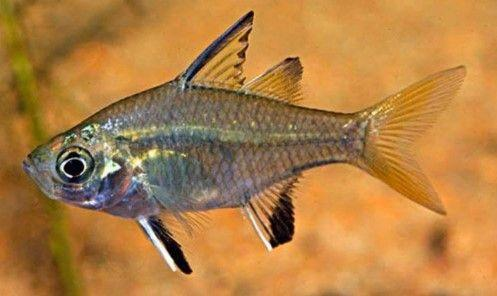Glass Perchlet: (24, 12, 471, 276)
